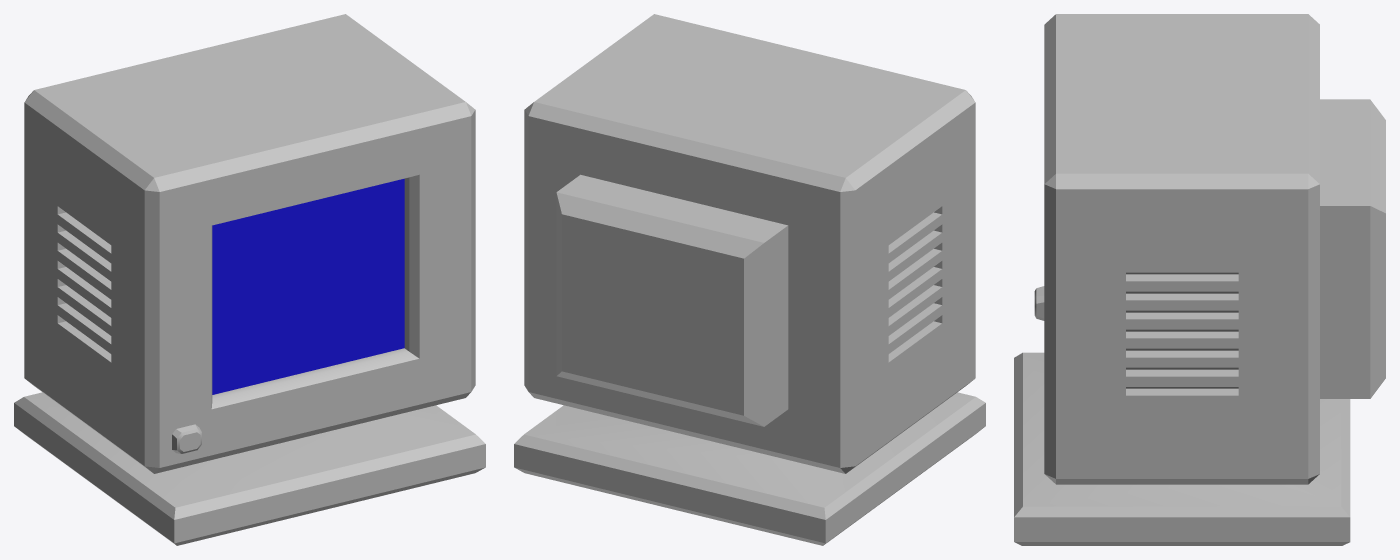
Rendered from Projects.glb.
The picture shows the model from 3 angles, left to right: view 1: azimuth 30°, elevation 25°; view 2: azimuth 150°, elevation 25°; view 3: azimuth 270°, elevation 25°; orthographic projection. The views are drawn at different scales.
Parts seen in each view (by area): view 1: Monitor; view 2: Monitor; view 3: Monitor.
Boxes of the visible parts, x1=… form: Monitor: x1=14, y1=14, x2=485, y2=545; Monitor: x1=514, y1=14, x2=985, y2=545; Monitor: x1=1014, y1=14, x2=1385, y2=545.
Bounding box in the file's own units: 1.48 × 1.53 × 1.37.
